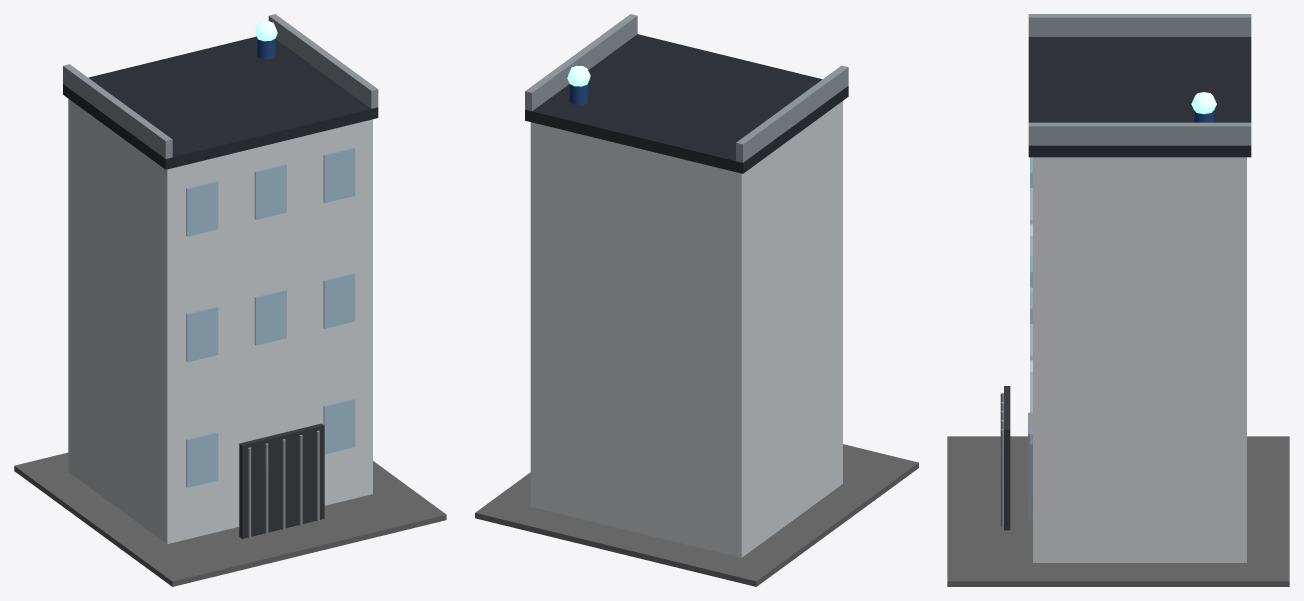
Rendered from bld_special_police_a08_lod1.glb.
3 renders of one model, left to right at view 1: azimuth 30°, elevation 25°; view 2: azimuth 150°, elevation 25°; view 3: azimuth 270°, elevation 25°, orthographic. The views are drawn at different scales.
Visible parts, largest first — view 1: body; view 2: body; view 3: body.
Boxes of the visible parts, x1,y1,x2,y2 form: body: (14,14,446,586); body: (475,14,918,586); body: (947,14,1289,586).
Size of the model in its own units: 8 by 11.9 by 8.
